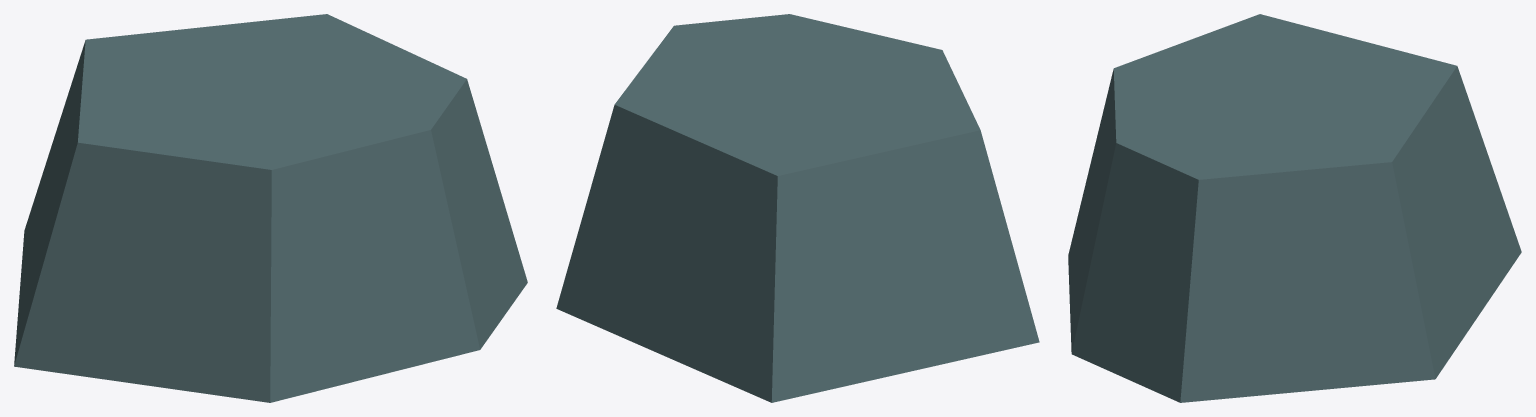
File: brigesCube_007.fbx
The picture shows the model from 3 angles, left to right: view 1: azimuth 30°, elevation 25°; view 2: azimuth 150°, elevation 25°; view 3: azimuth 270°, elevation 25°; orthographic projection. The views are drawn at different scales.
Parts seen in each view (by area): view 1: Cube.007; view 2: Cube.007; view 3: Cube.007.
Part boxes in pixels (box(x1,y1,x2,y2)): Cube.007: box(14, 14, 527, 402); Cube.007: box(556, 14, 1039, 402); Cube.007: box(1068, 14, 1521, 402).
Size of the model in its own units: 42.22 by 17.91 by 36.93.
